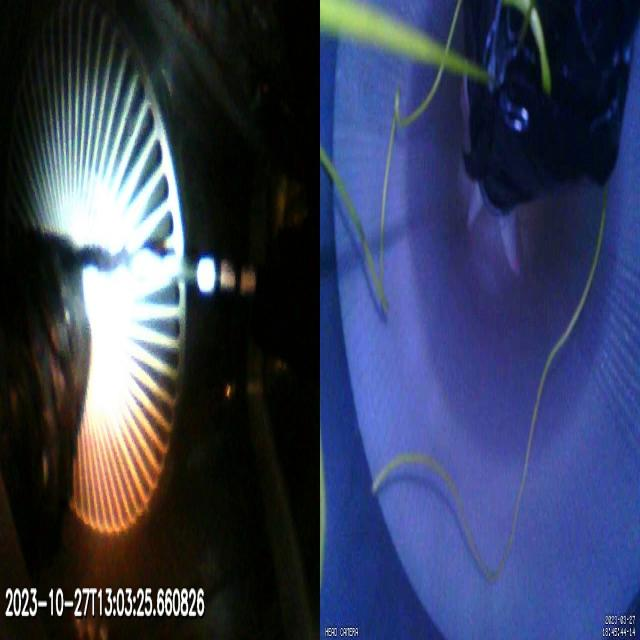white-dots: (196, 256, 255, 296)
